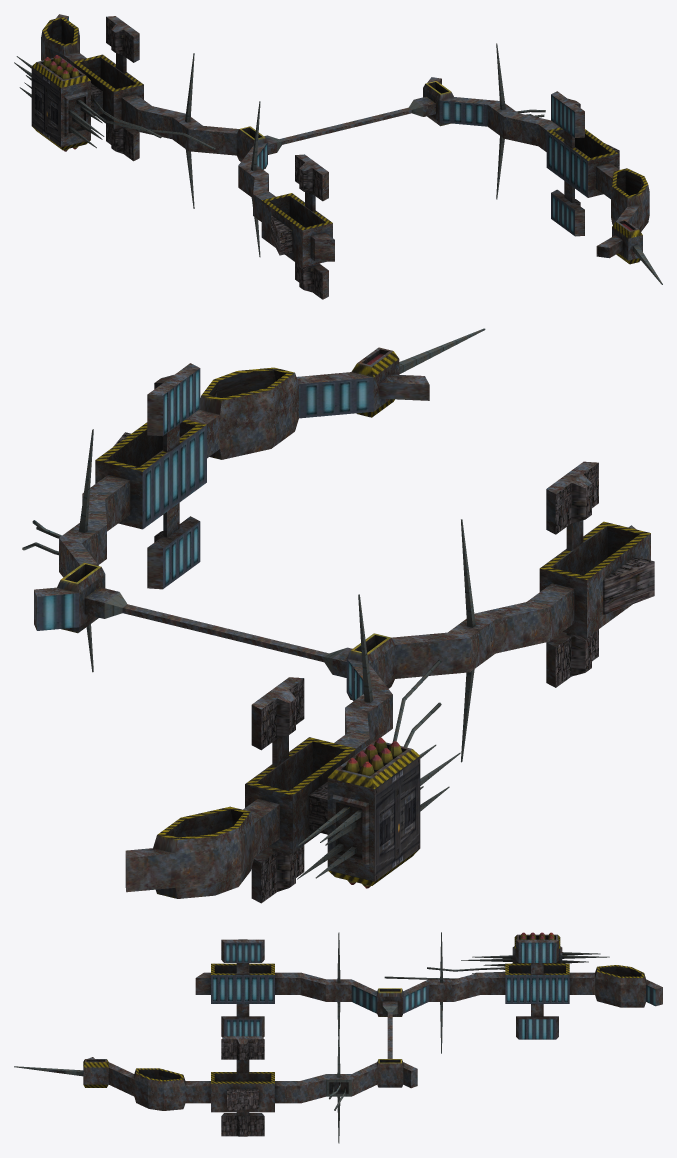
File: JTL-variation5.obj
3 renders of one model, top to bottom at view 1: azimuth 30°, elevation 25°; view 2: azimuth 150°, elevation 25°; view 3: azimuth 270°, elevation 25°, orthographic. The views are drawn at different scales.
Visible parts, largest first — view 1: Box01; view 2: Box01; view 3: Box01.
Boxes of the visible parts, x1,y1,x2,y2 form: Box01: (14, 14, 662, 299); Box01: (22, 328, 654, 903); Box01: (14, 932, 662, 1143).
Size of the model in its own units: 132 by 52.35 by 254.
1 material, 1 textured.
